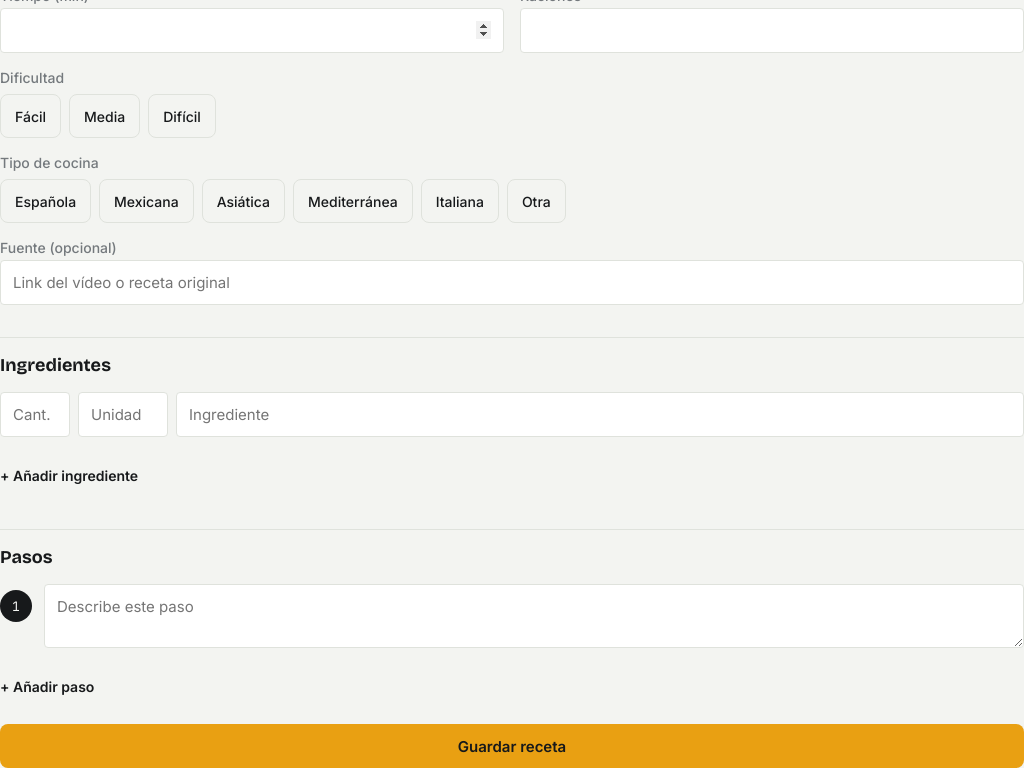
RecipeForm › muestra error y no envía si el título está vacío
(page scrolled)
Click the button "Guardar receta": {"x": 512, "y": 746} [0, 724, 1023, 767]
(page scrolled)
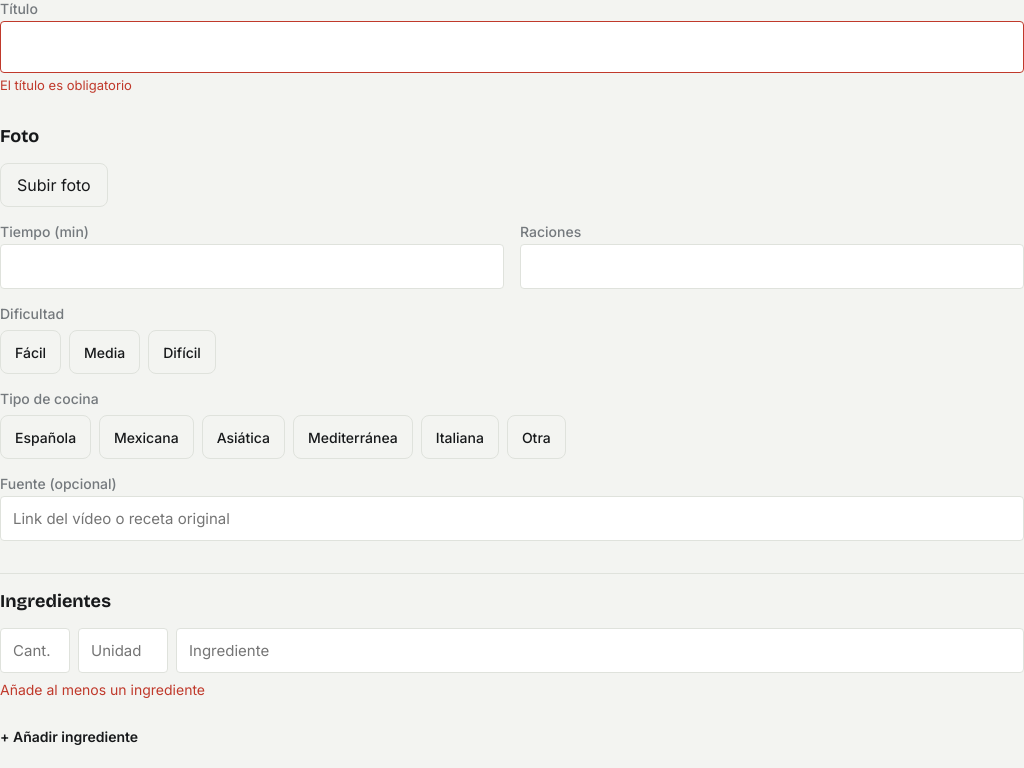
Now the text "El título es obligatorio" is shown, box [0, 77, 132, 93]
